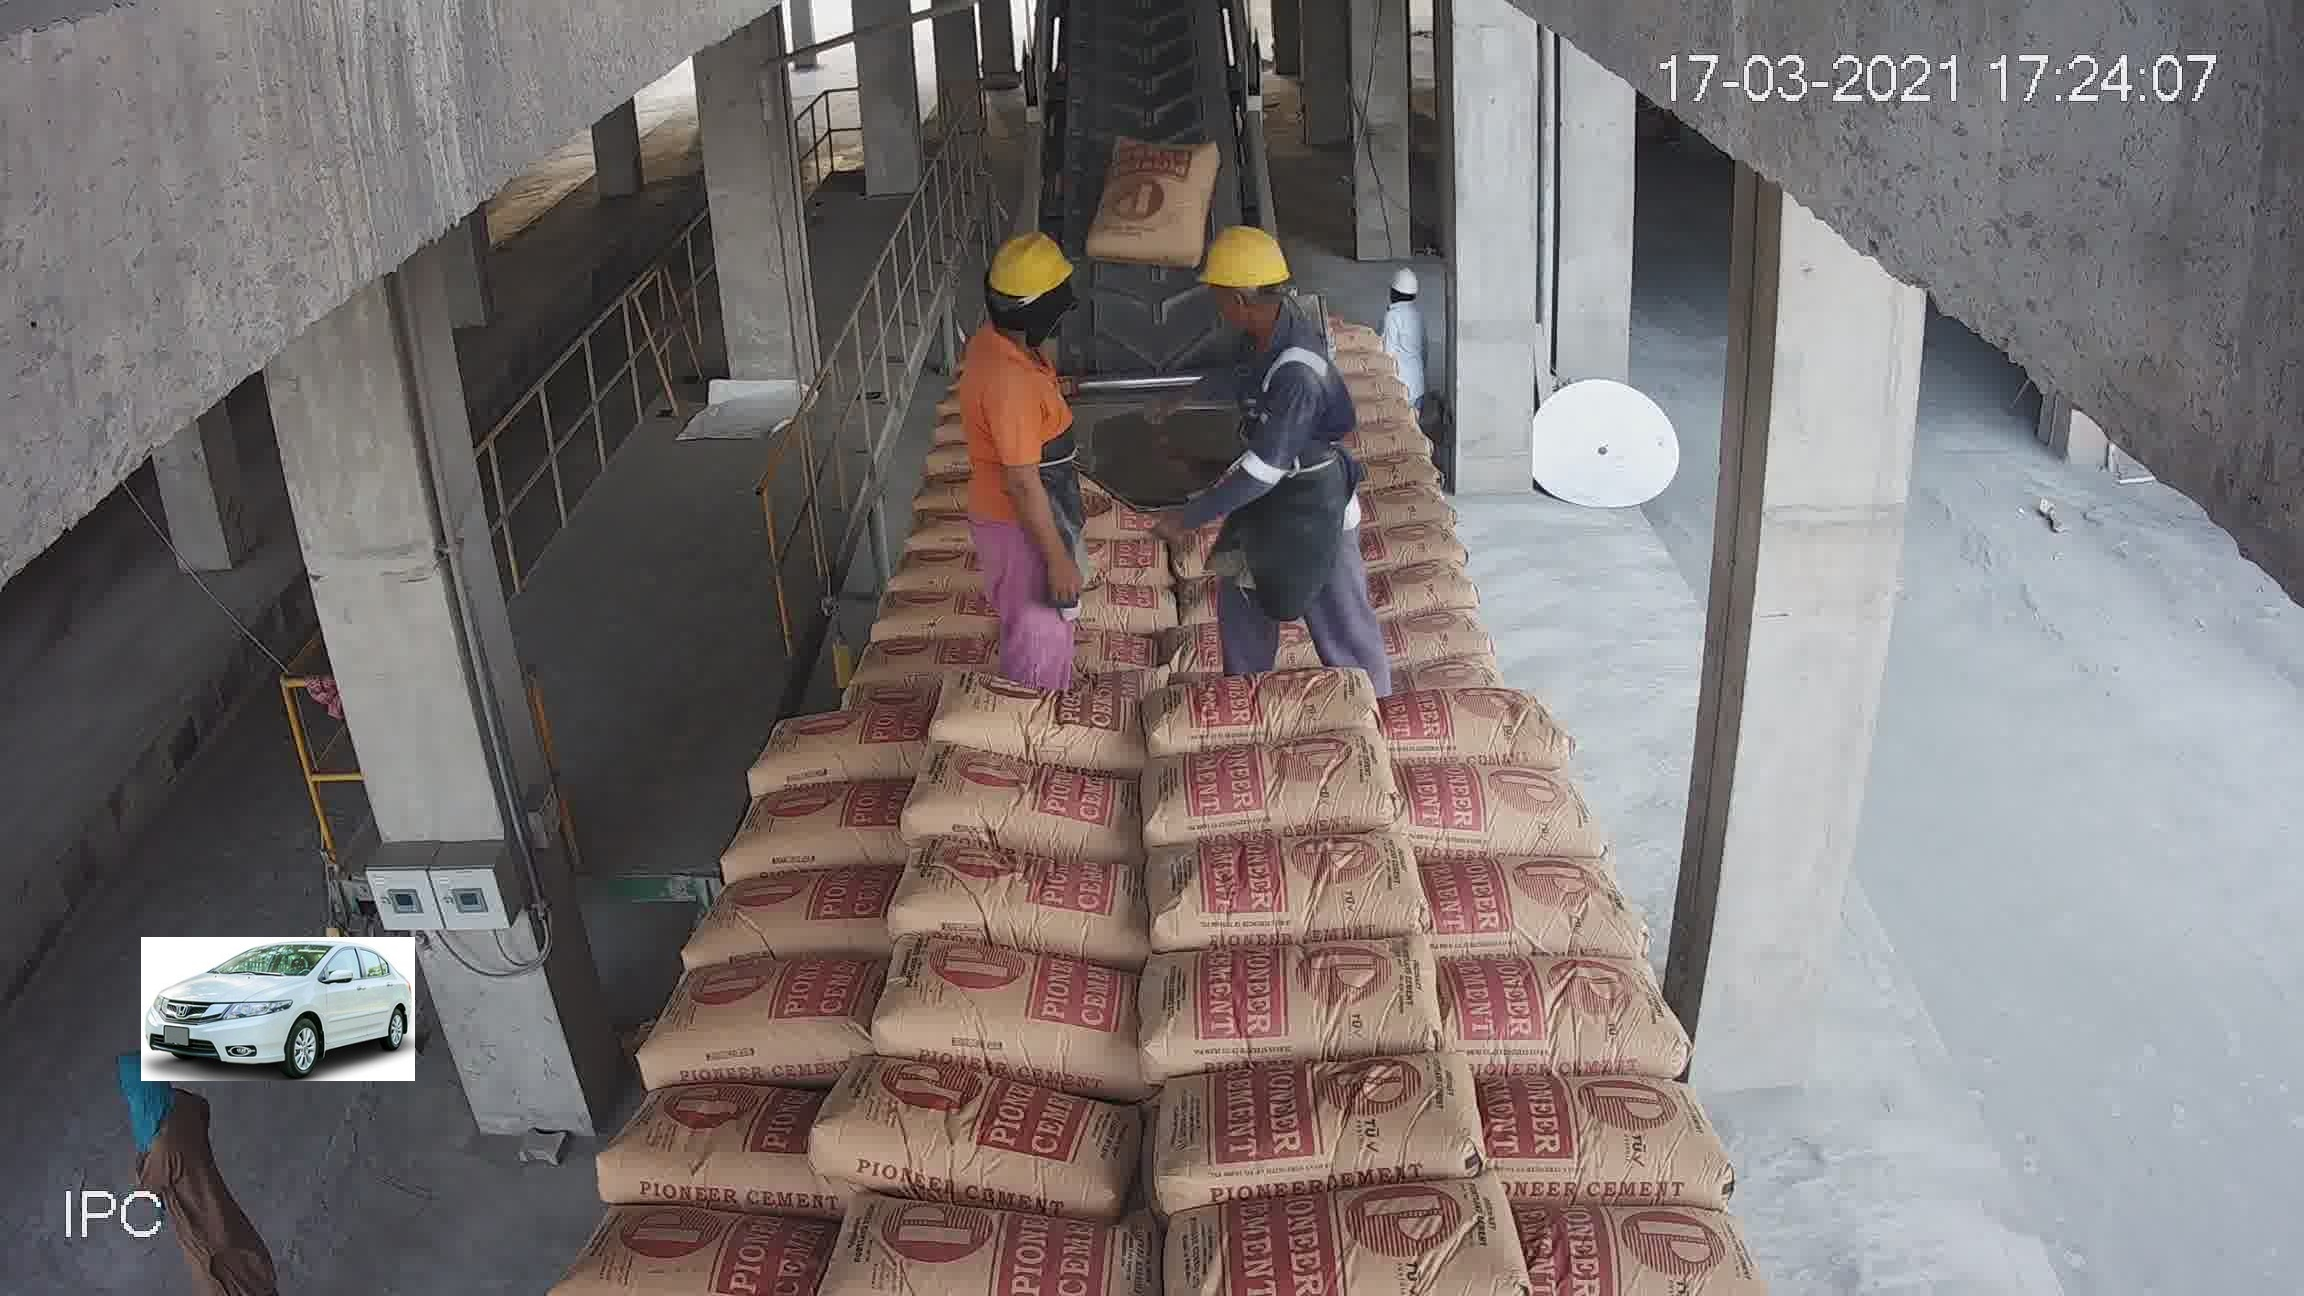bag: (1033, 299, 1215, 445), (1108, 60, 1199, 165)
bag_h: (1124, 1051, 1472, 1215), (1138, 927, 1448, 1078), (832, 1048, 1152, 1193), (1146, 1168, 1503, 1296), (1449, 1060, 1725, 1225), (1155, 805, 1443, 956), (820, 1188, 1161, 1293), (1449, 937, 1677, 1082), (1423, 812, 1636, 965), (1160, 726, 1412, 836), (642, 967, 885, 1079), (880, 951, 1144, 1052), (571, 1086, 813, 1192), (1150, 590, 1400, 687), (1161, 665, 1407, 763), (911, 850, 1154, 943), (927, 677, 1161, 771), (932, 760, 1161, 851), (717, 782, 907, 891), (1543, 1199, 1752, 1296), (726, 709, 937, 802), (576, 1211, 839, 1280), (668, 883, 889, 965), (1154, 524, 1355, 604), (1380, 680, 1573, 758), (1328, 506, 1503, 589), (1404, 760, 1586, 837), (1366, 616, 1541, 684), (975, 604, 1157, 669), (946, 562, 1130, 625), (780, 578, 965, 638), (820, 516, 970, 581), (1168, 492, 1339, 548), (957, 516, 1138, 568), (791, 646, 948, 703), (1161, 460, 1323, 514), (1377, 562, 1505, 619), (1340, 475, 1497, 517), (850, 483, 987, 530), (1011, 465, 1150, 506)
belt: (1052, 25, 1247, 279)
